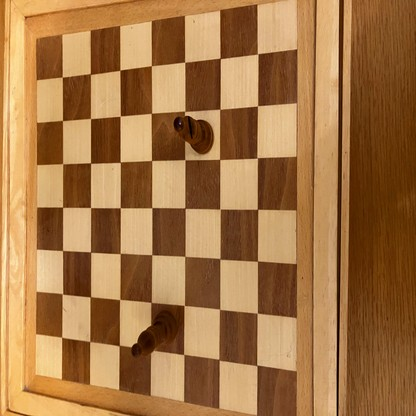bishop_black: (132, 310, 177, 356), (174, 117, 215, 153)
